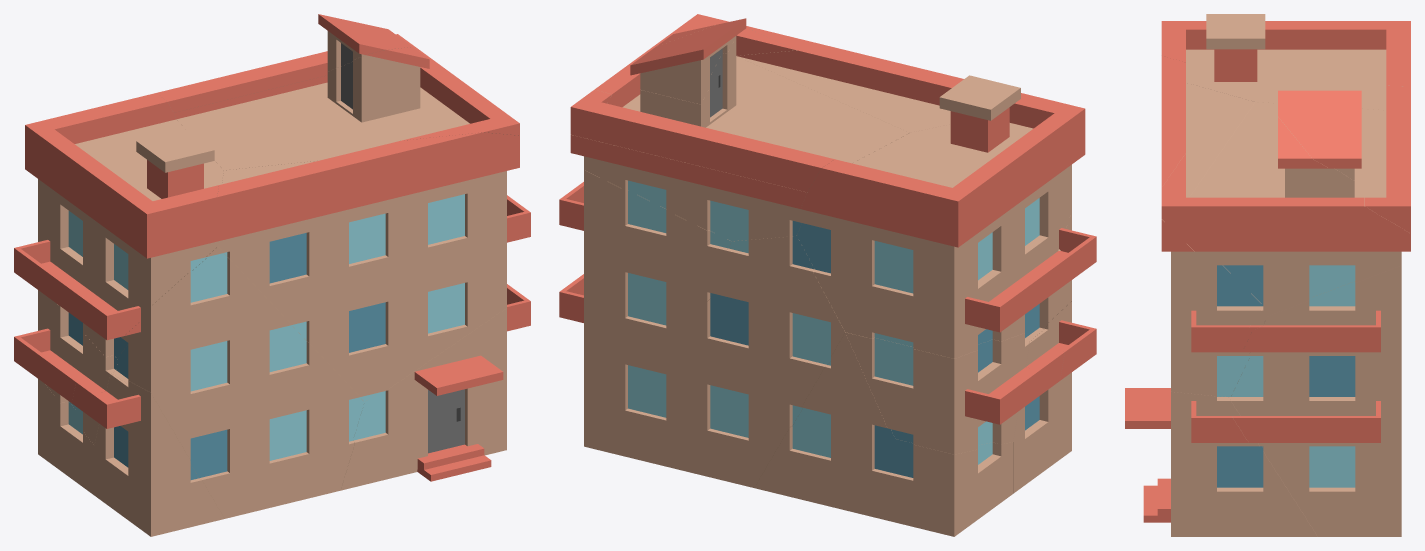
The model's file is House 2.3 Fractured.fbx.
3 views of the same model, side by side, from view 1: azimuth 30°, elevation 25°; view 2: azimuth 150°, elevation 25°; view 3: azimuth 270°, elevation 25° (orthographic). The views are drawn at different scales.
Parts seen in each view (by area): view 1: House_Type2_3_Breaking_cell.008, House_Type2_3_Breaking_cell.002, House_Type2_3_Breaking_cell.010, House_Type2_3_Breaking_cell, House_Type2_3_Breaking_cell.006, House_Type2_3_Breaking_cell.004, House_Type2_3_Breaking_cell.005, House_Type2_3_Breaking_cell.001, House_Type2_3_Breaking_cell.009; view 2: House_Type2_3_Breaking_cell.010, House_Type2_3_Breaking_cell.003, House_Type2_3_Breaking_cell.011, House_Type2_3_Breaking_cell, House_Type2_3_Breaking_cell.001, House_Type2_3_Breaking_cell.005, House_Type2_3_Breaking_cell.007, House_Type2_3_Breaking_cell.008, House_Type2_3_Breaking_cell.009, House_Type2_3_Breaking_cell.004, House_Type2_3_Breaking_cell.002; view 3: House_Type2_3_Breaking_cell.003, House_Type2_3_Breaking_cell, House_Type2_3_Breaking_cell.008, House_Type2_3_Breaking_cell.010, House_Type2_3_Breaking_cell.006, House_Type2_3_Breaking_cell.005.
Part boxes in pixels (x1,y1,x2,y2): House_Type2_3_Breaking_cell.008: (217, 132, 530, 402); House_Type2_3_Breaking_cell.002: (112, 247, 364, 518); House_Type2_3_Breaking_cell.010: (14, 93, 223, 358); House_Type2_3_Breaking_cell: (174, 47, 519, 170); House_Type2_3_Breaking_cell.006: (340, 286, 530, 490); House_Type2_3_Breaking_cell.004: (72, 373, 224, 536); House_Type2_3_Breaking_cell.005: (157, 14, 419, 112); House_Type2_3_Breaking_cell.001: (14, 290, 117, 445); House_Type2_3_Breaking_cell.009: (38, 379, 94, 494); House_Type2_3_Breaking_cell.010: (797, 75, 1096, 358); House_Type2_3_Breaking_cell.003: (559, 170, 731, 461); House_Type2_3_Breaking_cell.011: (648, 235, 845, 487); House_Type2_3_Breaking_cell: (570, 14, 909, 241); House_Type2_3_Breaking_cell.001: (845, 332, 1064, 454); House_Type2_3_Breaking_cell.005: (570, 18, 834, 192); House_Type2_3_Breaking_cell.007: (754, 332, 895, 521); House_Type2_3_Breaking_cell.008: (736, 26, 963, 132); House_Type2_3_Breaking_cell.009: (892, 439, 1012, 536); House_Type2_3_Breaking_cell.004: (1013, 301, 1096, 493); House_Type2_3_Breaking_cell.002: (1025, 212, 1071, 342); House_Type2_3_Breaking_cell.003: (1230, 265, 1401, 536); House_Type2_3_Breaking_cell: (1161, 102, 1410, 330); House_Type2_3_Breaking_cell.008: (1161, 56, 1267, 397); House_Type2_3_Breaking_cell.010: (1161, 14, 1410, 110); House_Type2_3_Breaking_cell.006: (1125, 388, 1317, 536); House_Type2_3_Breaking_cell.005: (1278, 85, 1410, 233).
Bounding box in the file's own units: 1000 × 881 × 572.
